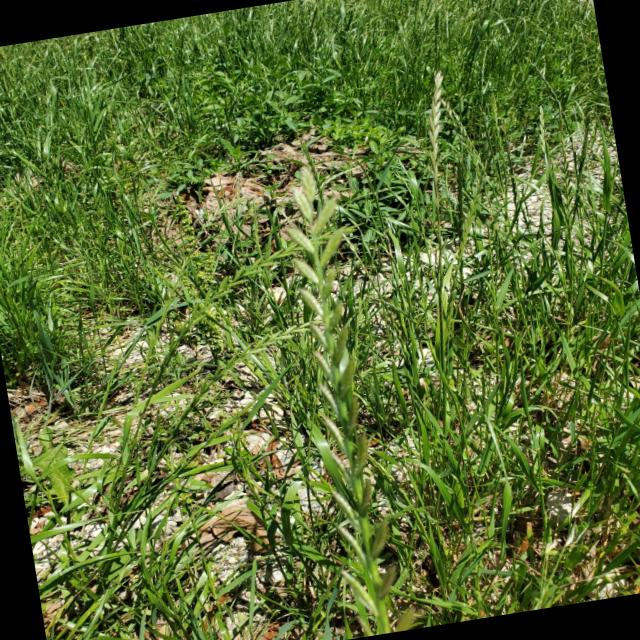Lolium: (260, 178, 420, 640), (132, 222, 386, 392), (153, 311, 351, 441), (438, 156, 506, 274), (528, 55, 576, 221), (396, 68, 460, 184), (193, 383, 283, 451), (448, 105, 488, 190), (489, 92, 511, 188), (298, 140, 326, 210), (330, 187, 396, 214), (533, 105, 552, 157), (478, 104, 492, 144)
